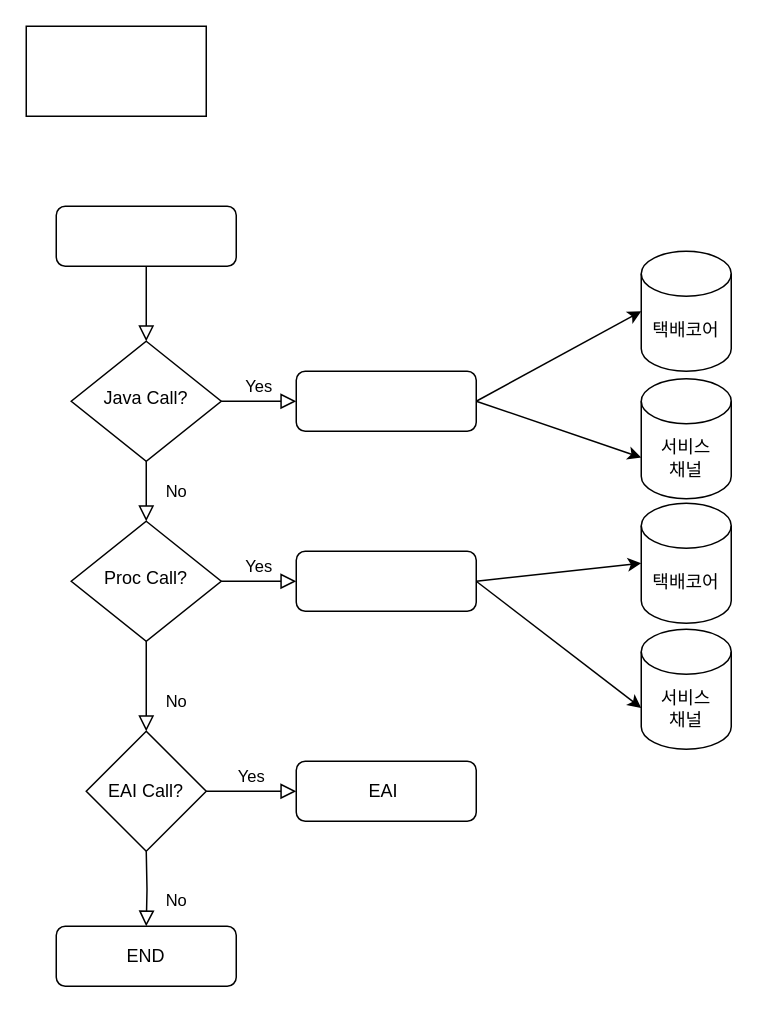
The diagram is 758 pixels wide and 1013 high, and some of its shapes have lost their labels. Each missing label, with the centre of its shape:
"BXM Batch (Java)" belongs at (x=385, y=400).
"JOB-PaSS" belongs at (x=145, y=235).
"Procedure" belongs at (x=385, y=580).
"배치 프로세스" belongs at (x=115, y=70).
